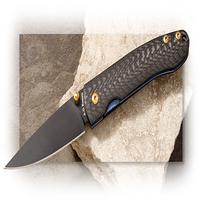knife: (3, 26, 189, 175)
